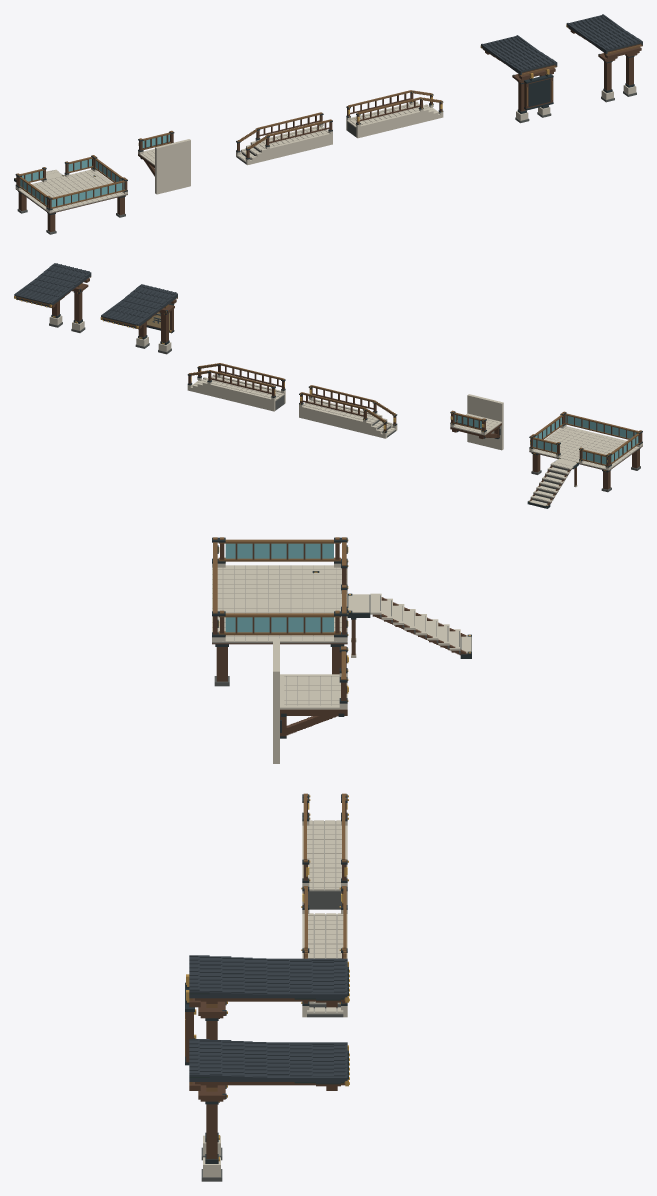
3 views of the same model, one above another, from view 1: azimuth 30°, elevation 25°; view 2: azimuth 150°, elevation 25°; view 3: azimuth 270°, elevation 25° (orthographic). The views are drawn at different scales.
Parts seen in each view (by area): view 1: 旧住宅门侧石接台和木扶条 (×2), 天枢顶层开放观景层, 旧商肆双侧店檐, 阳台安装墙 · 验证辅件, 旧商肆店檐立柱 (×3), 旧商肆店檐暖牌体, 旧住宅阳台扶栏; view 2: 旧住宅门侧石接台和木扶条 (×2), 天枢顶层开放观景层, 旧商肆双侧店檐, 共享双跑上行踏步, 阳台安装墙 · 验证辅件, 旧商肆店檐立柱 (×2), 旧住宅临街阳台板, 旧住宅阳台扶栏; view 3: 天枢顶层开放观景层, 旧商肆双侧店檐, 旧住宅门侧石接台和木扶条 (×2), 共享双跑上行踏步, 旧住宅临街阳台板, 旧商肆店檐立柱, 阳台安装墙 · 验证辅件.
Boxes of the visible parts, x1=… form: 旧住宅门侧石接台和木扶条 (×2): x1=236, y1=90, x2=443, y2=165; 天枢顶层开放观景层: x1=15, y1=155, x2=127, y2=234; 旧商肆双侧店檐: x1=480, y1=14, x2=642, y2=79; 阳台安装墙 · 验证辅件: x1=155, y1=139, x2=190, y2=194; 旧商肆店檐立柱 (×3): x1=512, y1=51, x2=639, y2=123; 旧商肆店檐暖牌体: x1=524, y1=74, x2=553, y2=110; 旧住宅阳台扶栏: x1=138, y1=130, x2=174, y2=153; 旧住宅门侧石接台和木扶条 (×2): x1=187, y1=363, x2=397, y2=438; 天枢顶层开放观景层: x1=529, y1=411, x2=642, y2=492; 旧商肆双侧店檐: x1=14, y1=263, x2=177, y2=329; 共享双跑上行踏步: x1=527, y1=458, x2=578, y2=508; 阳台安装墙 · 验证辅件: x1=467, y1=394, x2=503, y2=450; 旧商肆店檐立柱 (×2): x1=71, y1=283, x2=174, y2=354; 旧住宅临街阳台板: x1=450, y1=413, x2=501, y2=438; 旧住宅阳台扶栏: x1=450, y1=410, x2=486, y2=434; 天枢顶层开放观景层: x1=212, y1=537, x2=348, y2=686; 旧商肆双侧店檐: x1=186, y1=955, x2=349, y2=1090; 旧住宅门侧石接台和木扶条 (×2): x1=301, y1=793, x2=348, y2=1017; 共享双跑上行踏步: x1=347, y1=593, x2=471, y2=658; 旧住宅临街阳台板: x1=280, y1=674, x2=347, y2=736; 旧商肆店檐立柱: x1=198, y1=1085, x2=227, y2=1181; 阳台安装墙 · 验证辅件: x1=273, y1=638, x2=286, y2=763.
Size of the model in its own units: 48 by 4.36 by 10.16.
16 materials, 16 textured.
